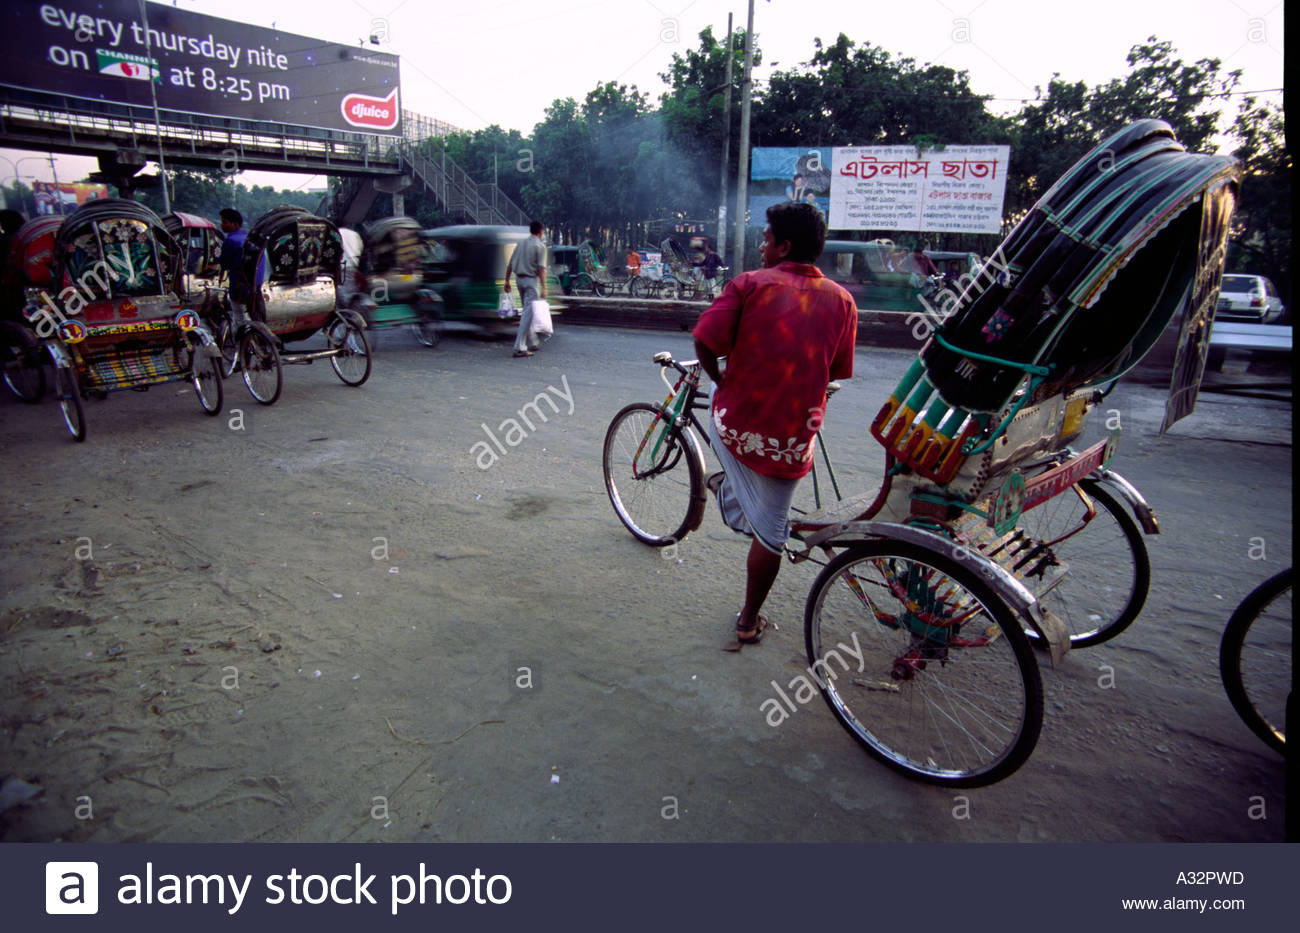Rickshaw: (682, 100, 1219, 759), (26, 198, 229, 421), (243, 209, 367, 402), (357, 201, 472, 362), (161, 188, 250, 337)
